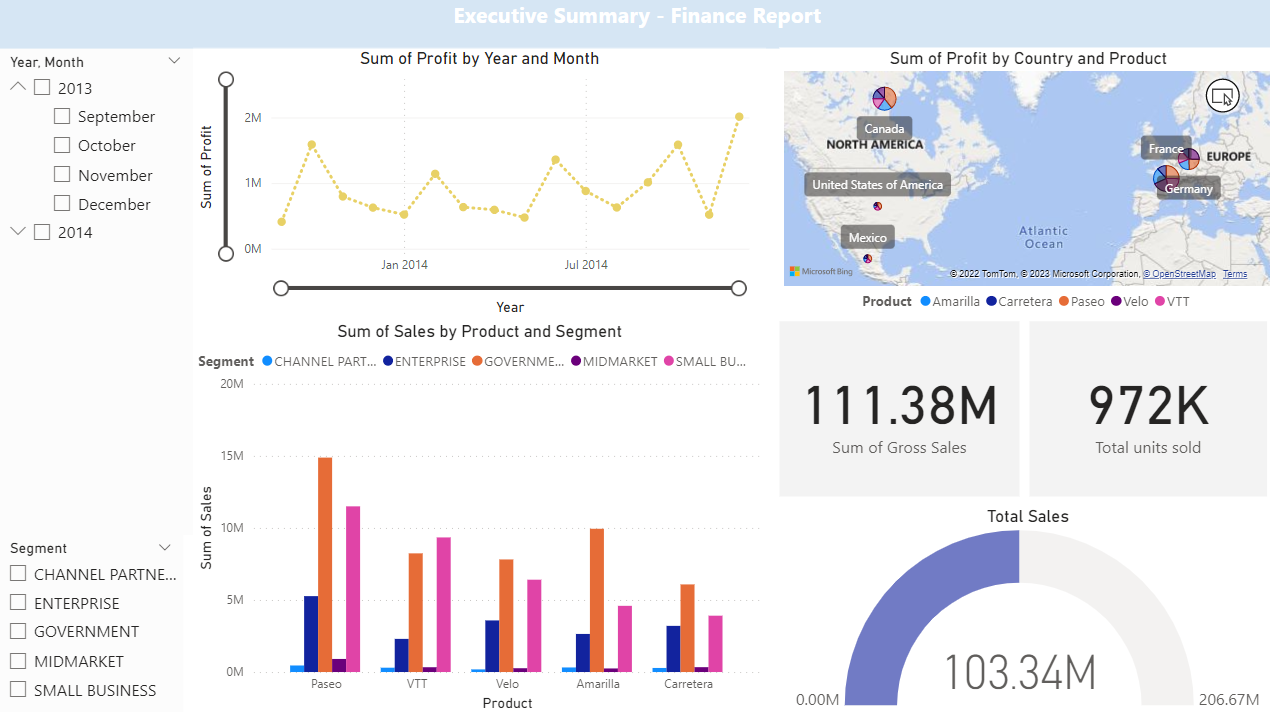

This screenshot's page, from the dashboard's own definition file:
{"tool":"powerbi","page":{"name":"Page 1","canvas":[1280,720],"ordinal":0},"visuals":[{"type":"textbox","box":[0,0,1280.3,53.5],"z":0},{"type":"lineChart","fields":{"Category":["Calendar.Date.Variation.Date Hierarchy.Year","Calendar.Date.Variation.Date Hierarchy.Month"],"Y":["Sum(financials.Profit)"]},"box":[196.6,53.1,572.9,272.6],"z":1000},{"type":"slicer","fields":{"Values":["Calendar.Date.Variation.Date Hierarchy.Year","Calendar.Date.Variation.Date Hierarchy.Month"]},"box":[0,53.2,196.3,486.8],"z":2000},{"type":"map","fields":{"Category":["financials.Country"],"Series":["financials.Product"],"Size":["Sum(financials.Profit)"]},"box":[782.7,53.1,498.1,272.6],"z":3000},{"type":"slicer","fields":{"Values":["financials.Segment"]},"box":[0,539.9,186.8,180],"z":4000},{"type":"clusteredColumnChart","fields":{"Y":["Sum(financials. Sales)"],"Category":["financials.Product"],"Series":["financials.Segment"]},"box":[196.6,325.6,572.9,394.4],"z":5000},{"type":"card","title":"Gross Sales","fields":{"Values":["Sum(financials.Gross Sales)"]},"box":[782.7,325.6,240,174.9],"z":6000},{"type":"card","fields":{"Values":["financials.Total units sold"]},"box":[1032.4,325.6,237.6,174.9],"z":7000},{"type":"gauge","title":"Total Sales","fields":{"Y":["Sum(financials. Sales)"]},"box":[782.7,511.4,496.9,208.6],"z":7001}]}

Visuals, with their boxes in screenshot pixels (x1, y1, x2, y2), scaled from the page's 1280x720 canvas onto the 1270x712 screenshot:
textbox: {"x1": 0, "y1": 0, "x2": 1269, "y2": 53}
lineChart - Calendar.Date.Variation.Date Hierarchy.Year x Calendar.Date.Variation.Date Hierarchy.Month: {"x1": 195, "y1": 53, "x2": 763, "y2": 322}
slicer - Calendar.Date.Variation.Date Hierarchy.Year x Calendar.Date.Variation.Date Hierarchy.Month: {"x1": 0, "y1": 53, "x2": 195, "y2": 534}
map - financials.Country x financials.Product: {"x1": 777, "y1": 53, "x2": 1269, "y2": 322}
slicer - financials.Segment: {"x1": 0, "y1": 534, "x2": 185, "y2": 711}
clusteredColumnChart - Sum(financials. Sales) x financials.Product: {"x1": 195, "y1": 322, "x2": 763, "y2": 711}
"Gross Sales" card: {"x1": 777, "y1": 322, "x2": 1015, "y2": 495}
card - financials.Total units sold: {"x1": 1024, "y1": 322, "x2": 1260, "y2": 495}
"Total Sales" gauge: {"x1": 777, "y1": 506, "x2": 1269, "y2": 711}
